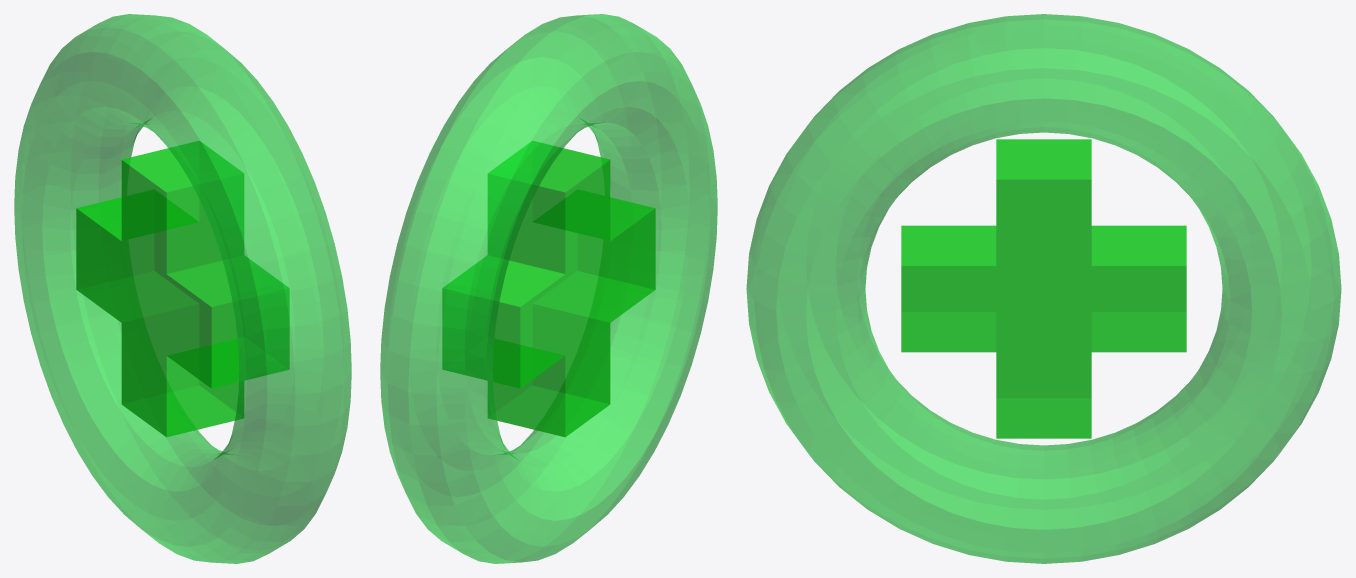
Rendered from healing3.fbx.
3 renders of one model, left to right at view 1: azimuth 30°, elevation 25°; view 2: azimuth 150°, elevation 25°; view 3: azimuth 270°, elevation 25°, orthographic. The views are drawn at different scales.
Parts seen in each view (by area): view 1: Cube.001; view 2: Cube.001; view 3: Cube.001.
Part boxes in pixels (left/top/right/bottom): Cube.001: left=14, top=14, right=351, bottom=563; Cube.001: left=380, top=14, right=717, bottom=563; Cube.001: left=746, top=14, right=1341, bottom=563.
Size of the model in its own units: 250 by 1250 by 1250.
